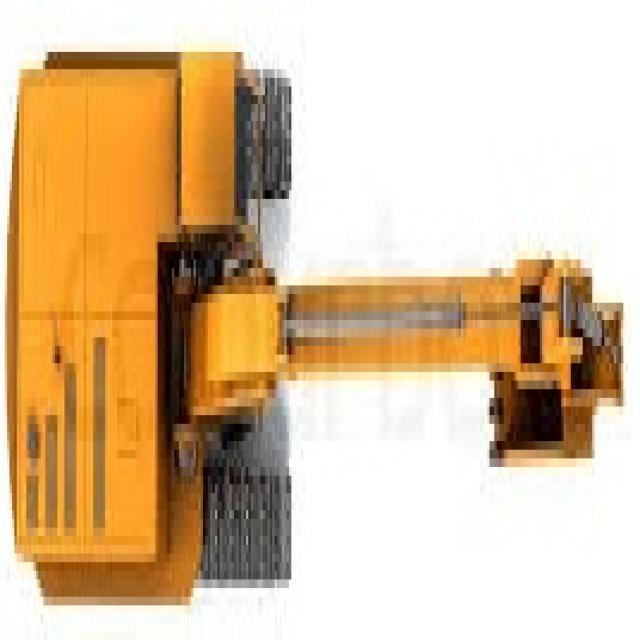excavator: (5, 23, 308, 613)
